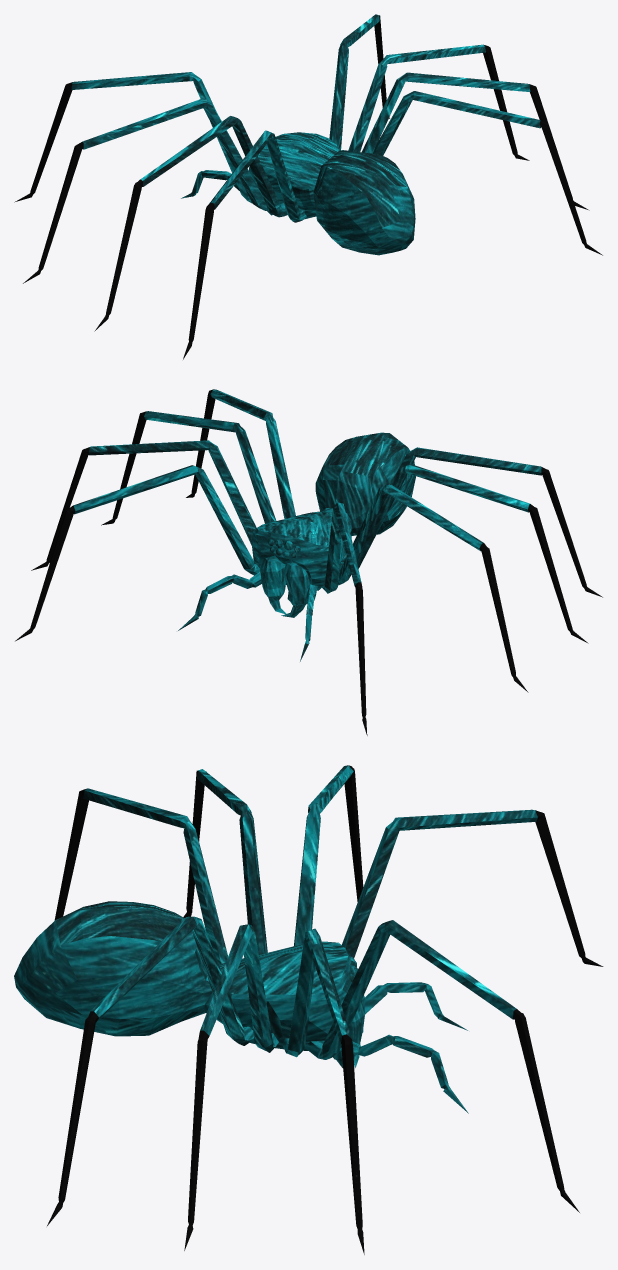
Rendered from TeamBSpider.obj.
3 views of the same model, one above another, from view 1: azimuth 30°, elevation 25°; view 2: azimuth 150°, elevation 25°; view 3: azimuth 270°, elevation 25° (orthographic). The views are drawn at different scales.
Visible parts, largest first — view 1: Spiders.002_Spiders.006, Spiders.003_Spiders.007; view 2: Spiders.002_Spiders.006, Spiders.003_Spiders.007; view 3: Spiders.002_Spiders.006, Spiders.003_Spiders.007.
Part boxes in pixels (x1,y1,x2,y2): Spiders.002_Spiders.006: (71, 14, 540, 255); Spiders.003_Spiders.007: (14, 15, 602, 359); Spiders.002_Spiders.006: (73, 389, 541, 661); Spiders.003_Spiders.007: (15, 389, 602, 735); Spiders.002_Spiders.006: (14, 765, 537, 1113); Spiders.003_Spiders.007: (47, 765, 603, 1254).
Bounding box in the file's own units: 0.9726 × 0.2936 × 0.7104.
Materials: 2 (2 with a texture image).
